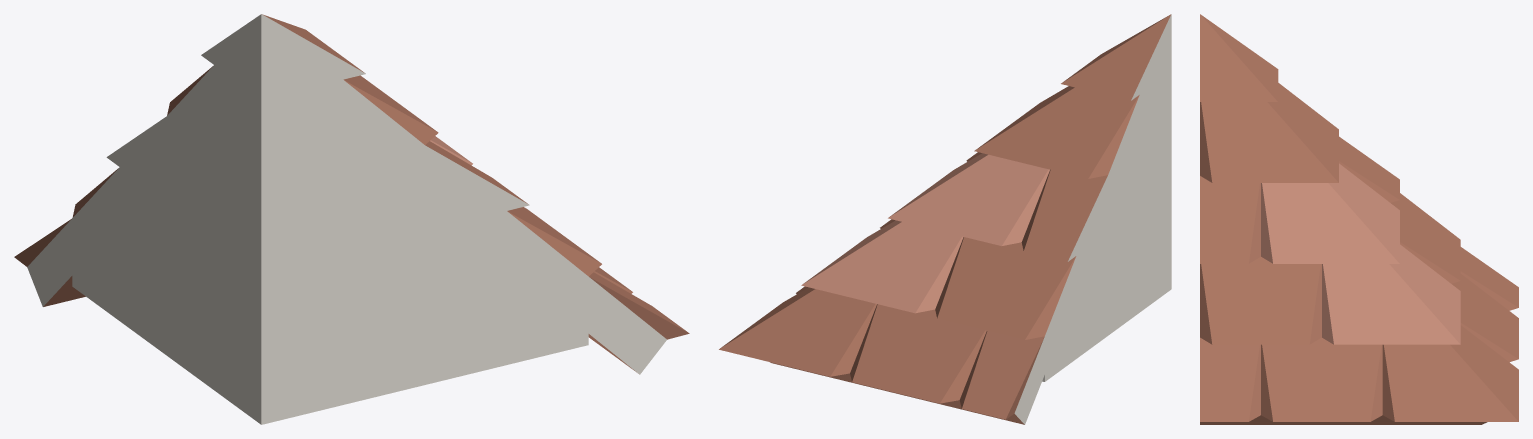
Rendered from Roof_Straight_Corner_Outer_Eave.glb.
3 renders of one model, left to right at view 1: azimuth 30°, elevation 25°; view 2: azimuth 150°, elevation 25°; view 3: azimuth 270°, elevation 25°, orthographic. The views are drawn at different scales.
Parts seen in each view (by area): view 1: object1; view 2: object1; view 3: object1.
Part boxes in pixels (<box>): object1: <box>14,14,689,424</box>; object1: <box>719,14,1171,424</box>; object1: <box>1200,14,1518,424</box>.
Size of the model in its own units: 1.31 by 1.32 by 1.31.
